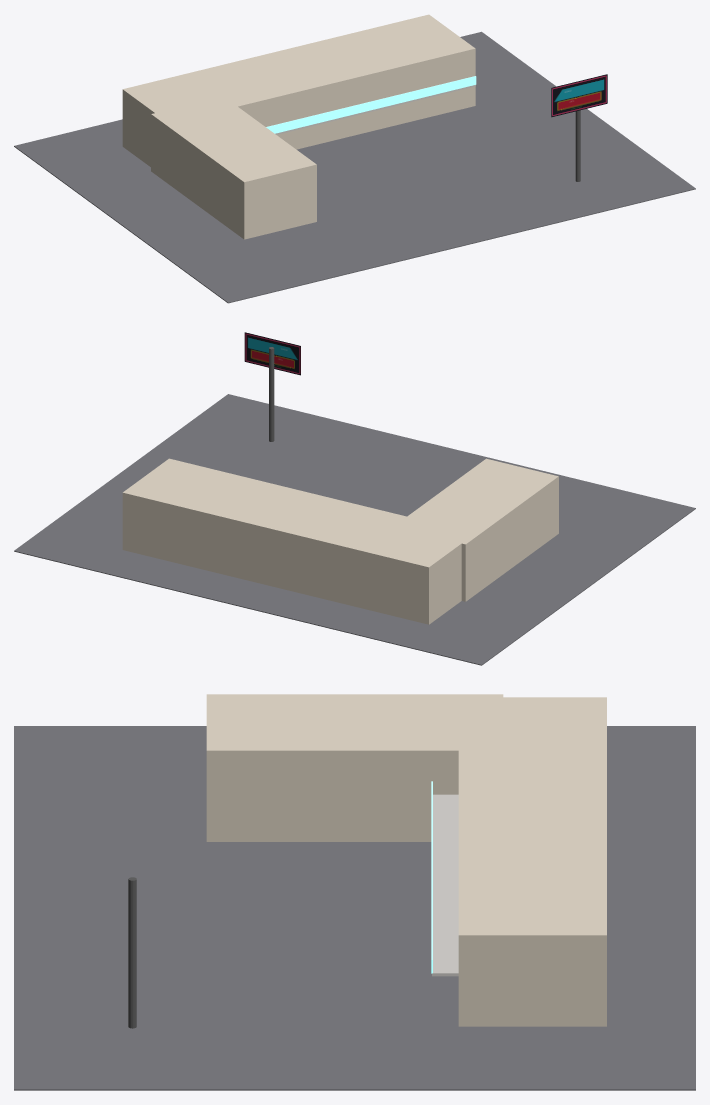
Rendered from crossroads_motel.glb.
The picture shows the model from 3 angles, top to bottom: view 1: azimuth 30°, elevation 25°; view 2: azimuth 150°, elevation 25°; view 3: azimuth 270°, elevation 25°; orthographic projection. The views are drawn at different scales.
Visible parts, largest first — view 1: Crossroads_Motel_lot, Crossroads_Motel_back_wing, Crossroads_Motel_left_wing, Crossroads_Motel_railing_back, Crossroads_Motel_sign_face; view 2: Crossroads_Motel_lot, Crossroads_Motel_back_wing, Crossroads_Motel_left_wing, Crossroads_Motel_sign_face, Crossroads_Motel_sign_post; view 3: Crossroads_Motel_lot, Crossroads_Motel_back_wing, Crossroads_Motel_left_wing, Crossroads_Motel_balcony_back, Crossroads_Motel_sign_post.
Boxes of the visible parts, x1,y1,x2,y2 form: Crossroads_Motel_lot: (14, 31, 695, 303); Crossroads_Motel_back_wing: (122, 14, 475, 166); Crossroads_Motel_left_wing: (151, 98, 316, 239); Crossroads_Motel_railing_back: (266, 76, 476, 133); Crossroads_Motel_sign_face: (551, 74, 607, 117); Crossroads_Motel_lot: (14, 394, 695, 665); Crossroads_Motel_back_wing: (122, 458, 474, 624); Crossroads_Motel_left_wing: (394, 458, 558, 601); Crossroads_Motel_sign_face: (244, 332, 300, 375); Crossroads_Motel_sign_post: (269, 347, 274, 441); Crossroads_Motel_lot: (14, 726, 695, 1090); Crossroads_Motel_back_wing: (458, 697, 606, 1026); Crossroads_Motel_left_wing: (206, 694, 503, 841); Crossroads_Motel_balcony_back: (432, 794, 458, 976); Crossroads_Motel_sign_post: (128, 877, 136, 1028).
Size of what is drawn, in the model's own units: 58 by 12.05 by 46.
Materials: 6 (1 with a texture image).
